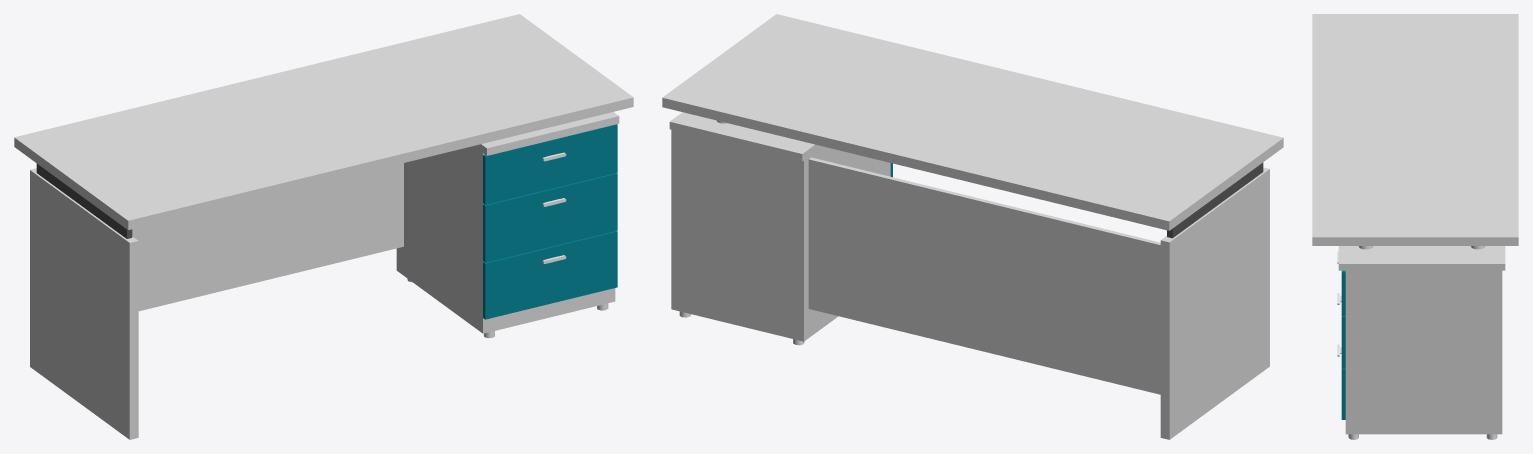
The model's file is ComputerDesk.fbx.
The picture shows the model from 3 angles, left to right: view 1: azimuth 30°, elevation 25°; view 2: azimuth 150°, elevation 25°; view 3: azimuth 270°, elevation 25°; orthographic projection. The views are drawn at different scales.
Visible parts, largest first — view 1: ComputerDesk; view 2: ComputerDesk; view 3: ComputerDesk.
Part boxes in pixels (<box>): ComputerDesk: <box>14,14,633,439</box>; ComputerDesk: <box>662,14,1283,439</box>; ComputerDesk: <box>1312,14,1518,439</box>.
Size of the model in its own units: 179 by 76.47 by 70.06.
Materials: 1 (1 with a texture image).
